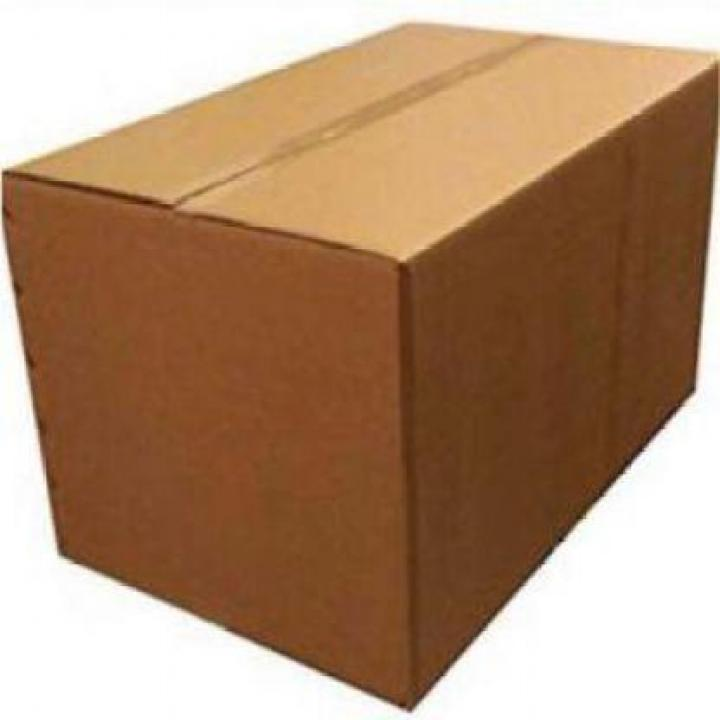package: (10, 21, 720, 711)
